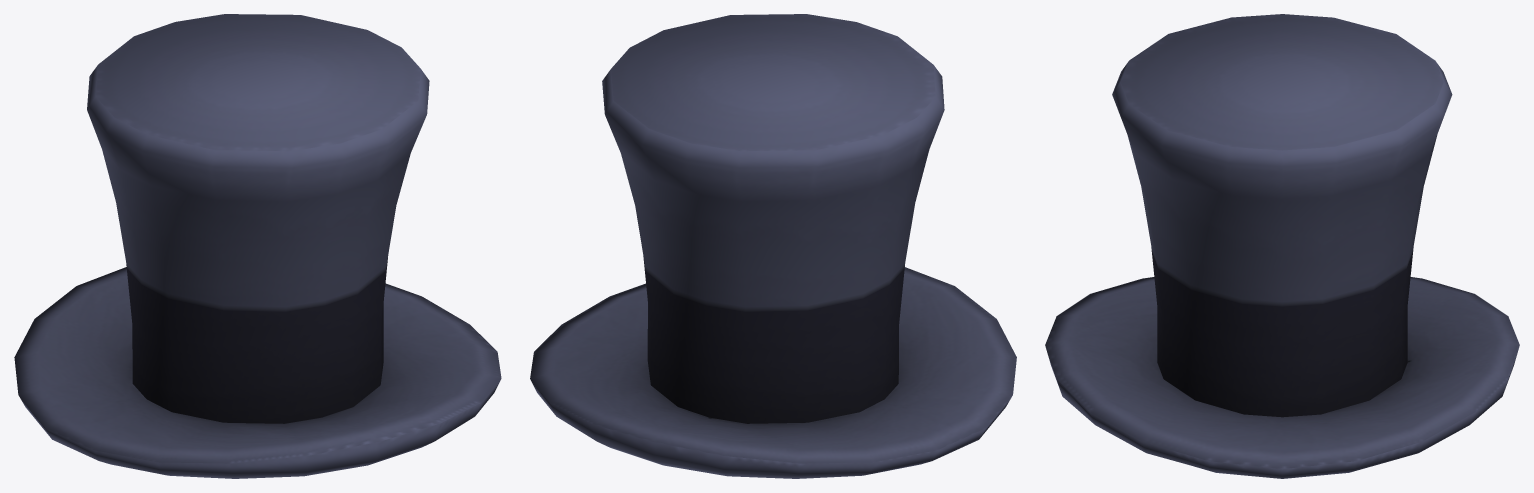
The model's file is hat_tophat.fbx.
3 views of the same model, side by side, from view 1: azimuth 30°, elevation 25°; view 2: azimuth 150°, elevation 25°; view 3: azimuth 270°, elevation 25° (orthographic). The views are drawn at different scales.
Parts seen in each view (by area): view 1: hat_top; view 2: hat_top; view 3: hat_top.
Part boxes in pixels (x1=…): hat_top: x1=14, y1=14, x2=501, y2=478; hat_top: x1=530, y1=14, x2=1016, y2=478; hat_top: x1=1045, y1=14, x2=1519, y2=478.
Size of the model in its own units: 2.02 by 1.46 by 2.01.
